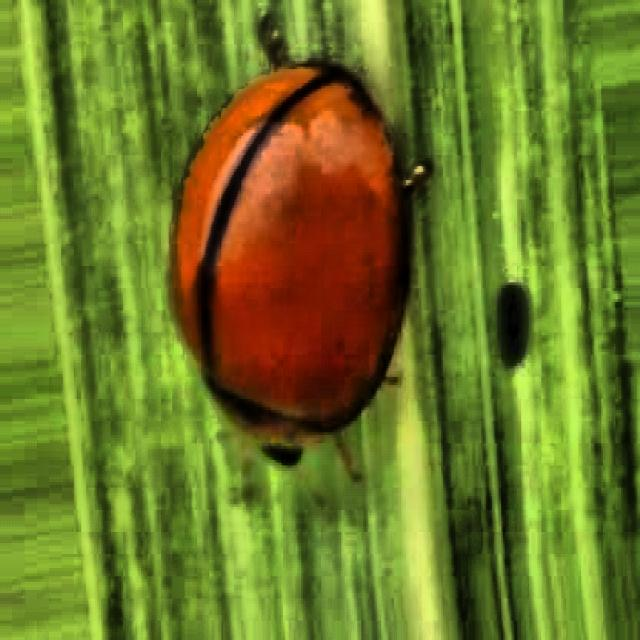Ladybug: (106, 4, 475, 588)
